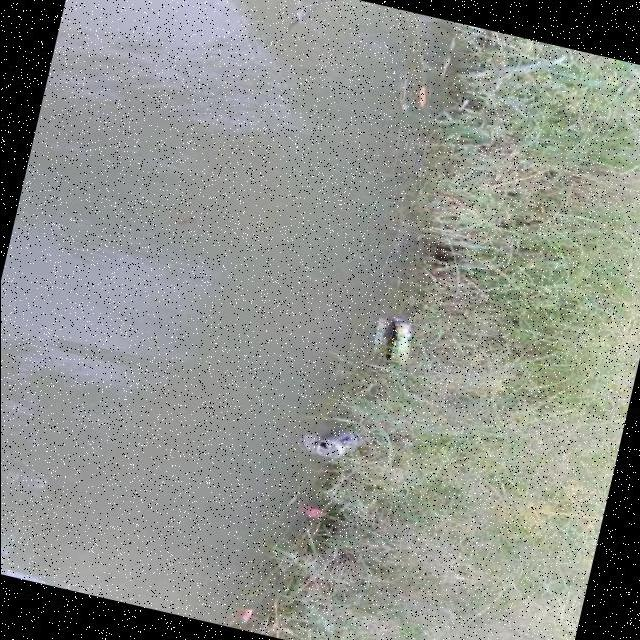Bottle: (375, 319, 417, 365), (307, 428, 364, 458)
Waste: (296, 498, 328, 526), (406, 82, 430, 109)
